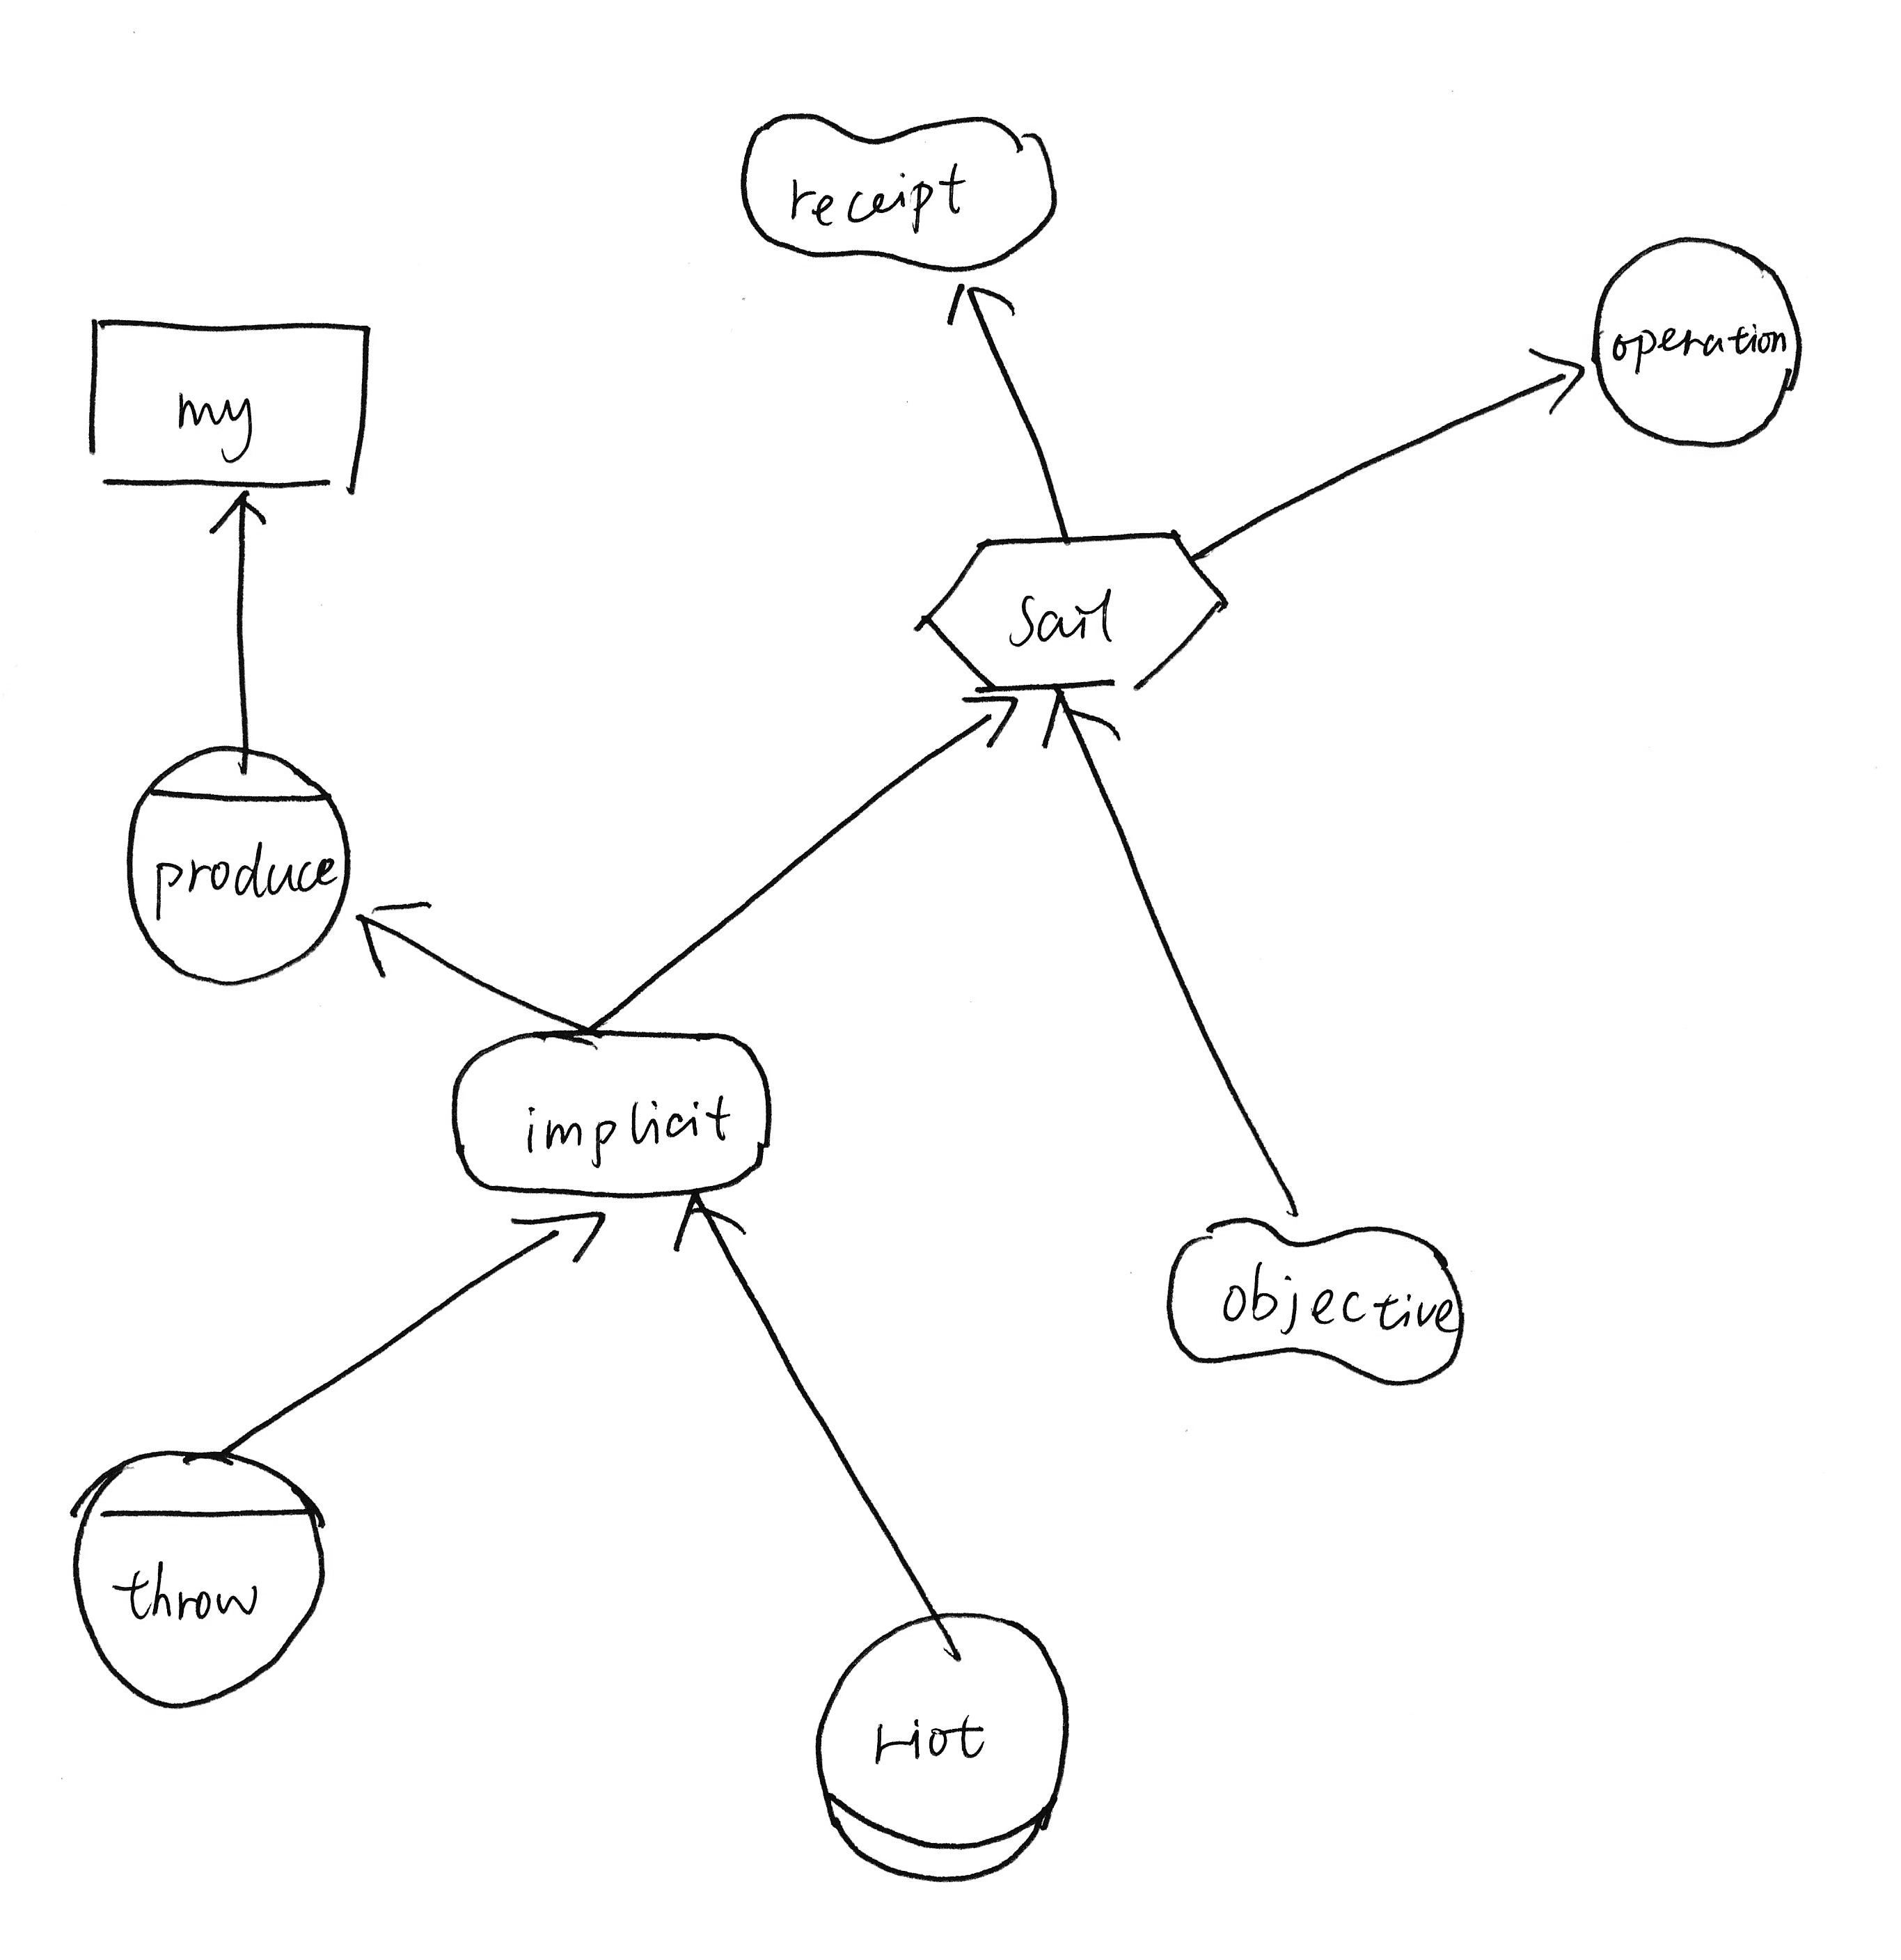actor: (1577, 217, 1817, 465)
agent: (58, 1431, 336, 1722), (116, 735, 366, 1005)
arrow: (345, 886, 448, 996), (504, 1192, 618, 1281), (1028, 681, 1143, 765), (660, 1178, 758, 1265), (1516, 327, 1598, 429), (924, 275, 1040, 339), (201, 481, 284, 548)
goal: (432, 1010, 784, 1209)
quality: (725, 82, 1073, 283), (1148, 1200, 1476, 1396)
resource: (67, 296, 385, 507)
role: (798, 1603, 1084, 1899)
task: (901, 514, 1243, 705)
